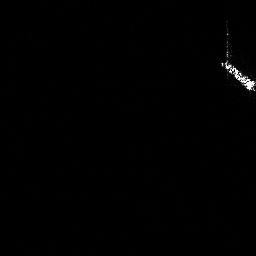ship: (218, 56, 256, 95)
